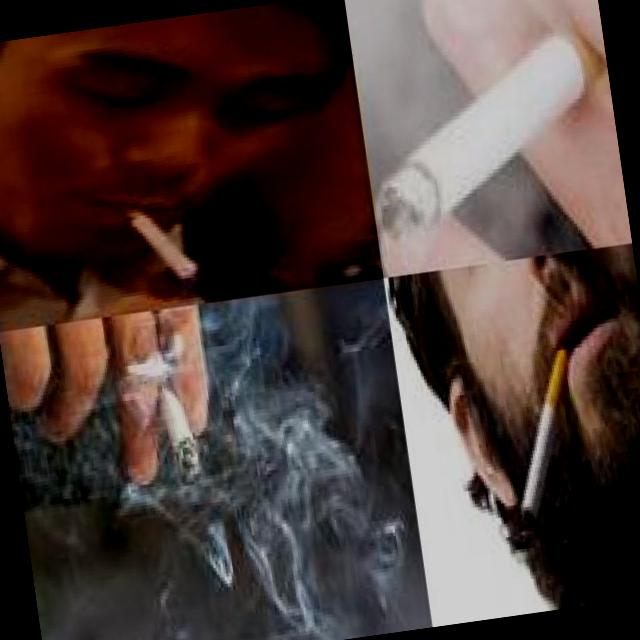smoke: (347, 0, 625, 247), (496, 336, 590, 532), (117, 195, 204, 286), (153, 371, 201, 486)
